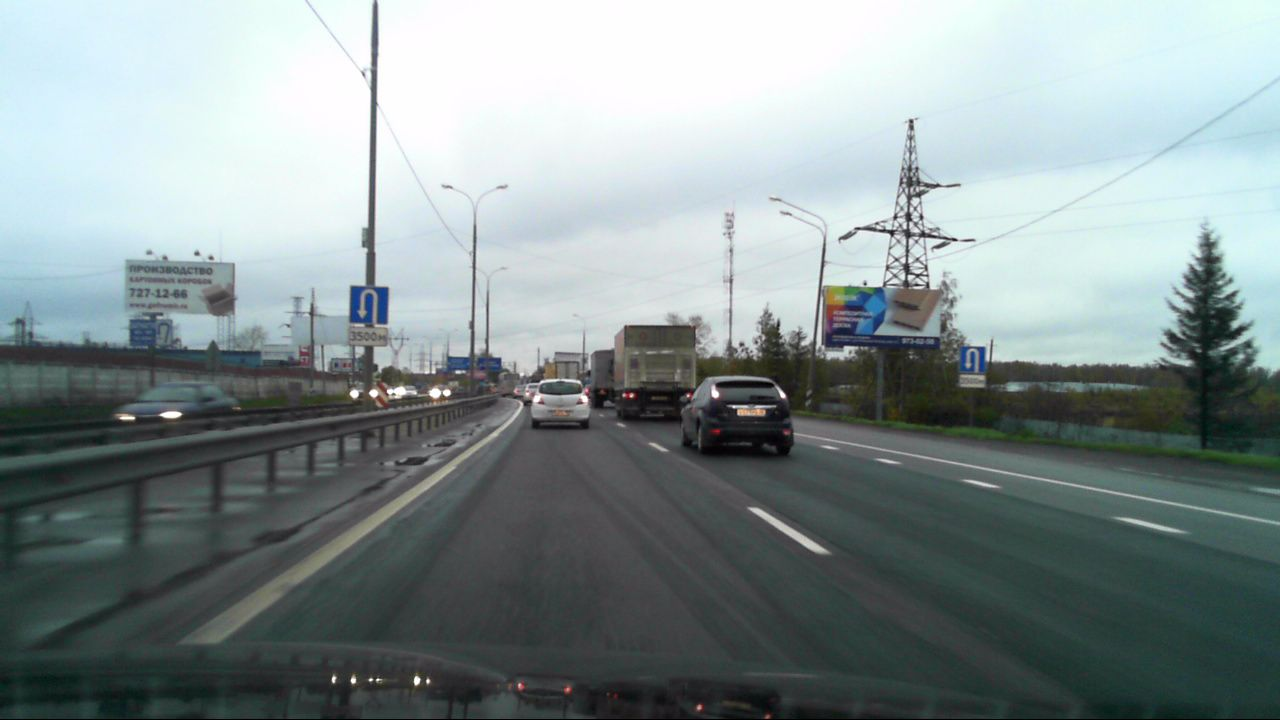U-turn: (350, 285, 389, 325), (960, 347, 985, 373)
